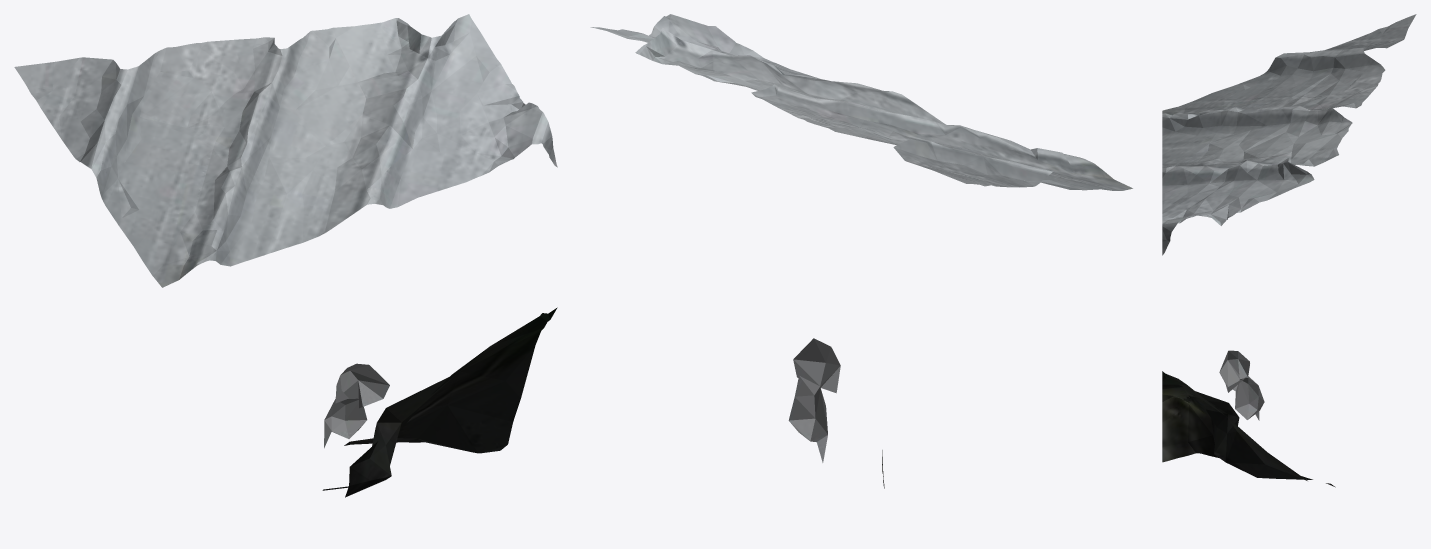
The picture shows the model from 3 angles, left to right: view 1: azimuth 30°, elevation 25°; view 2: azimuth 150°, elevation 25°; view 3: azimuth 270°, elevation 25°; orthographic projection. The views are drawn at different scales.
Size of the model in its own units: 0.8374 by 0.8374 by 0.5432.
2 materials, 2 textured.
